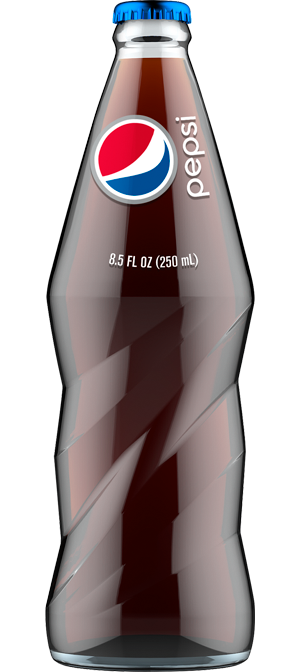pepsi: (96, 119, 172, 194)
